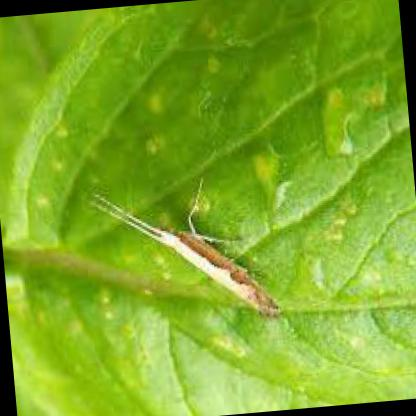plutella: (78, 174, 283, 318)
